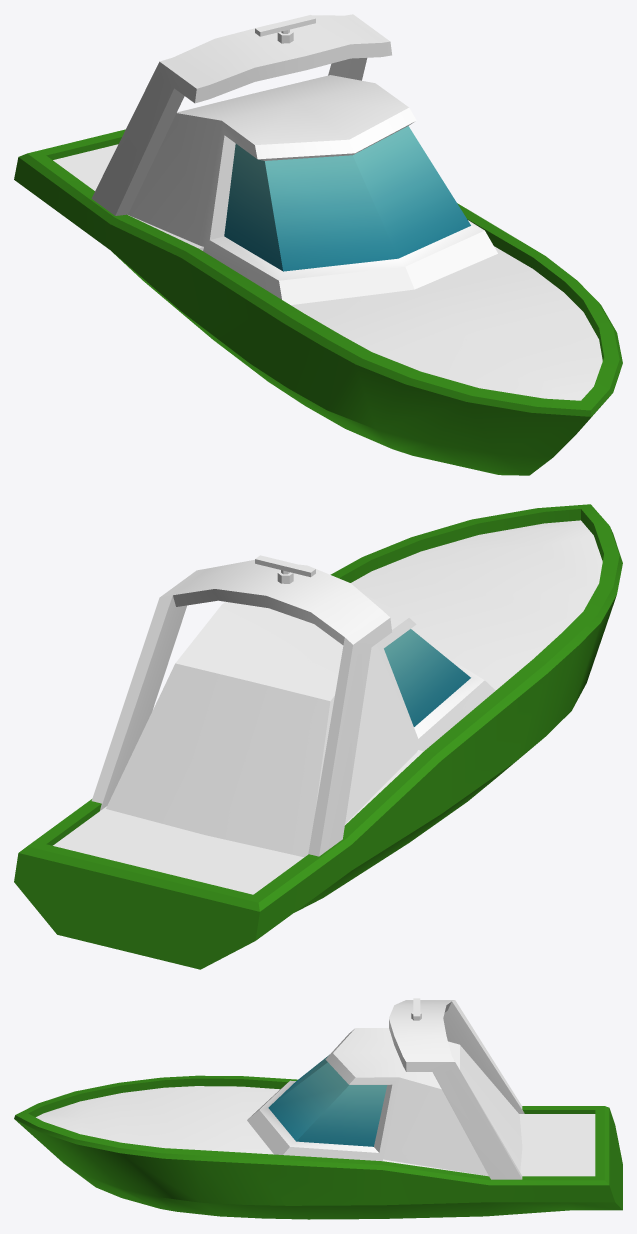
Rendered from Boat4.fbx.
3 views of the same model, one above another, from view 1: azimuth 30°, elevation 25°; view 2: azimuth 150°, elevation 25°; view 3: azimuth 270°, elevation 25° (orthographic). The views are drawn at different scales.
Parts seen in each view (by area): view 1: Hull_Boats_MAT_0.004; view 2: Hull_Boats_MAT_0.004; view 3: Hull_Boats_MAT_0.004.
Boxes of the visible parts, x1,y1,x2,y2 form: Hull_Boats_MAT_0.004: (14,14,622,475); Hull_Boats_MAT_0.004: (14,504,622,969); Hull_Boats_MAT_0.004: (14,998,622,1219).
Size of the model in its own units: 0.7443 by 0.8348 by 2.26.
